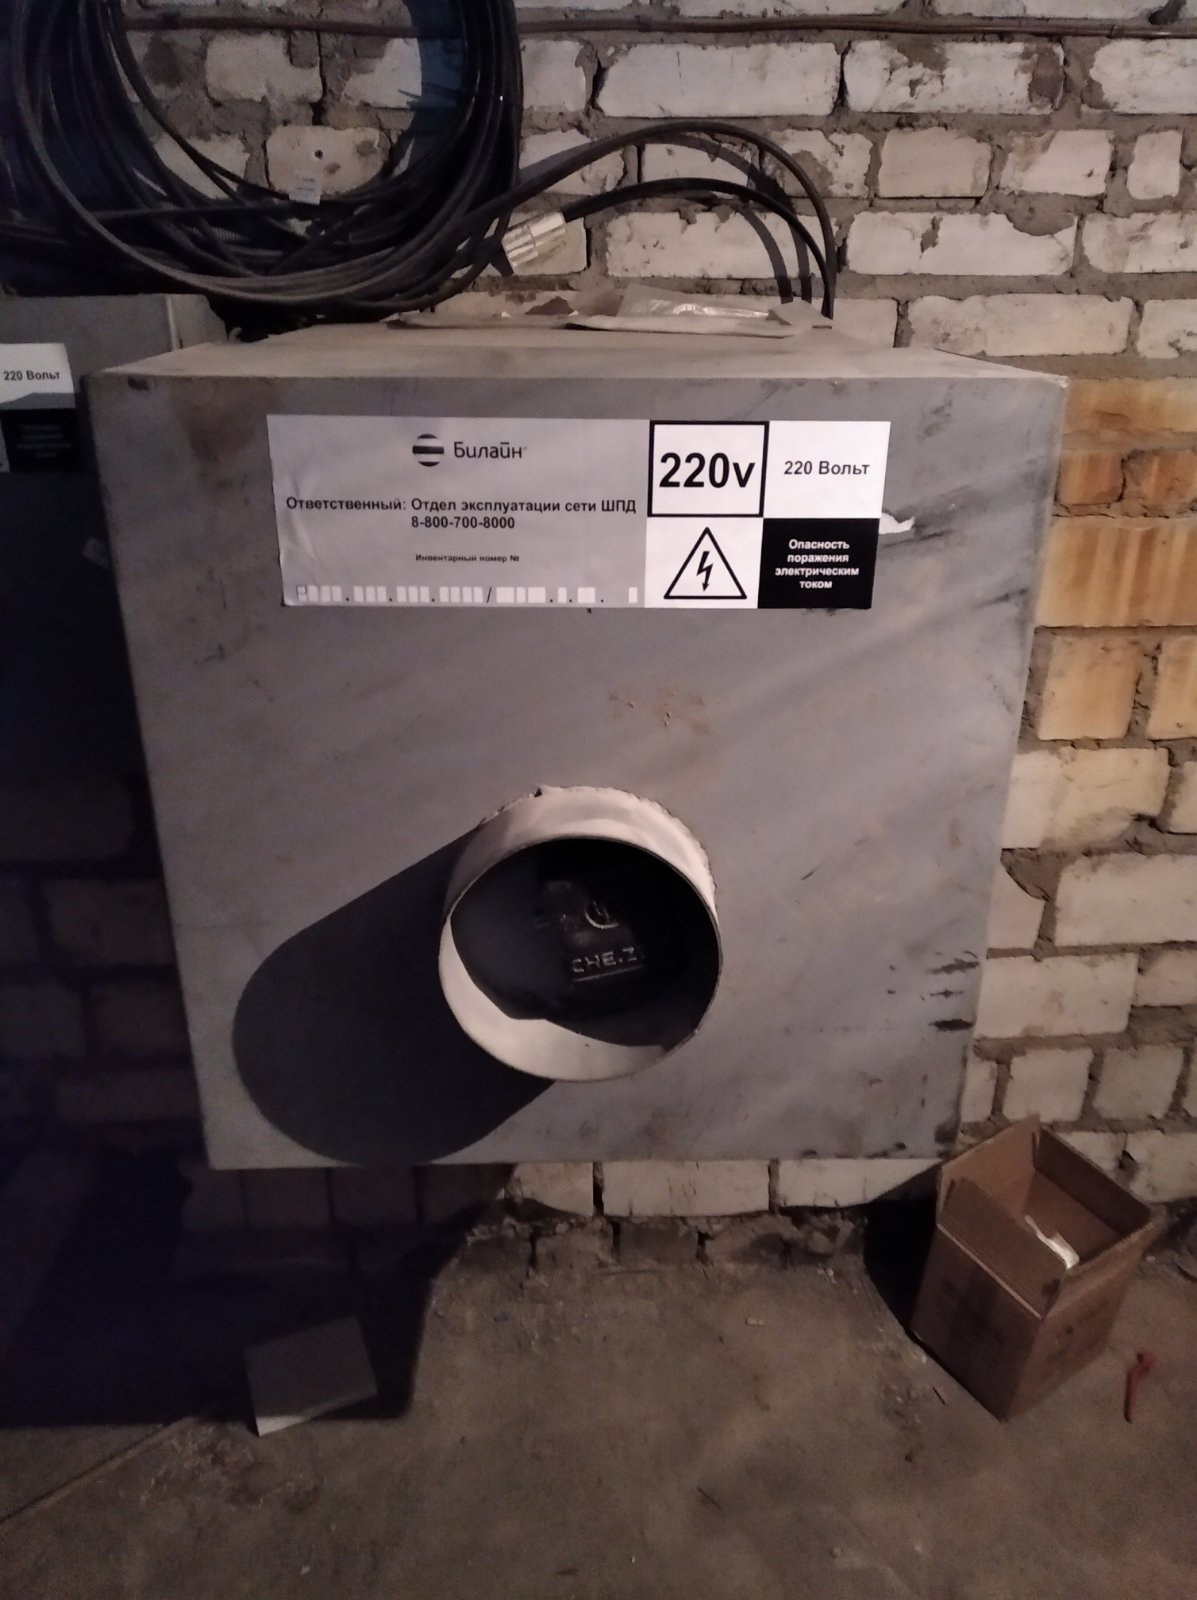shta-9: (72, 293, 1088, 1180)
